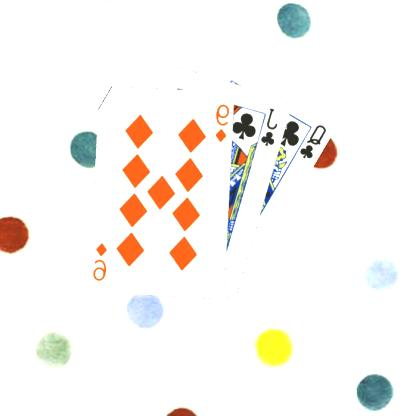9D: (93, 239, 111, 282), (214, 101, 232, 143)
JC: (260, 105, 281, 147)
QC: (299, 122, 330, 160)
